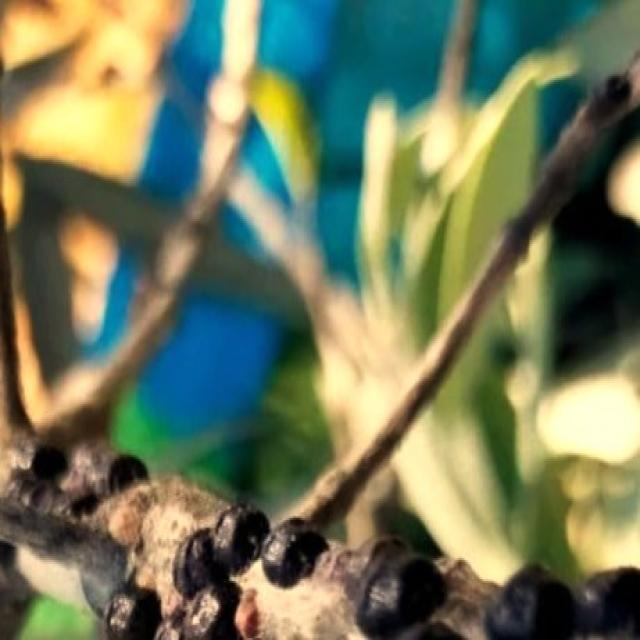BlackScale: (490, 536, 640, 640), (344, 535, 446, 638), (173, 505, 270, 596), (103, 579, 239, 638), (261, 516, 329, 586)
